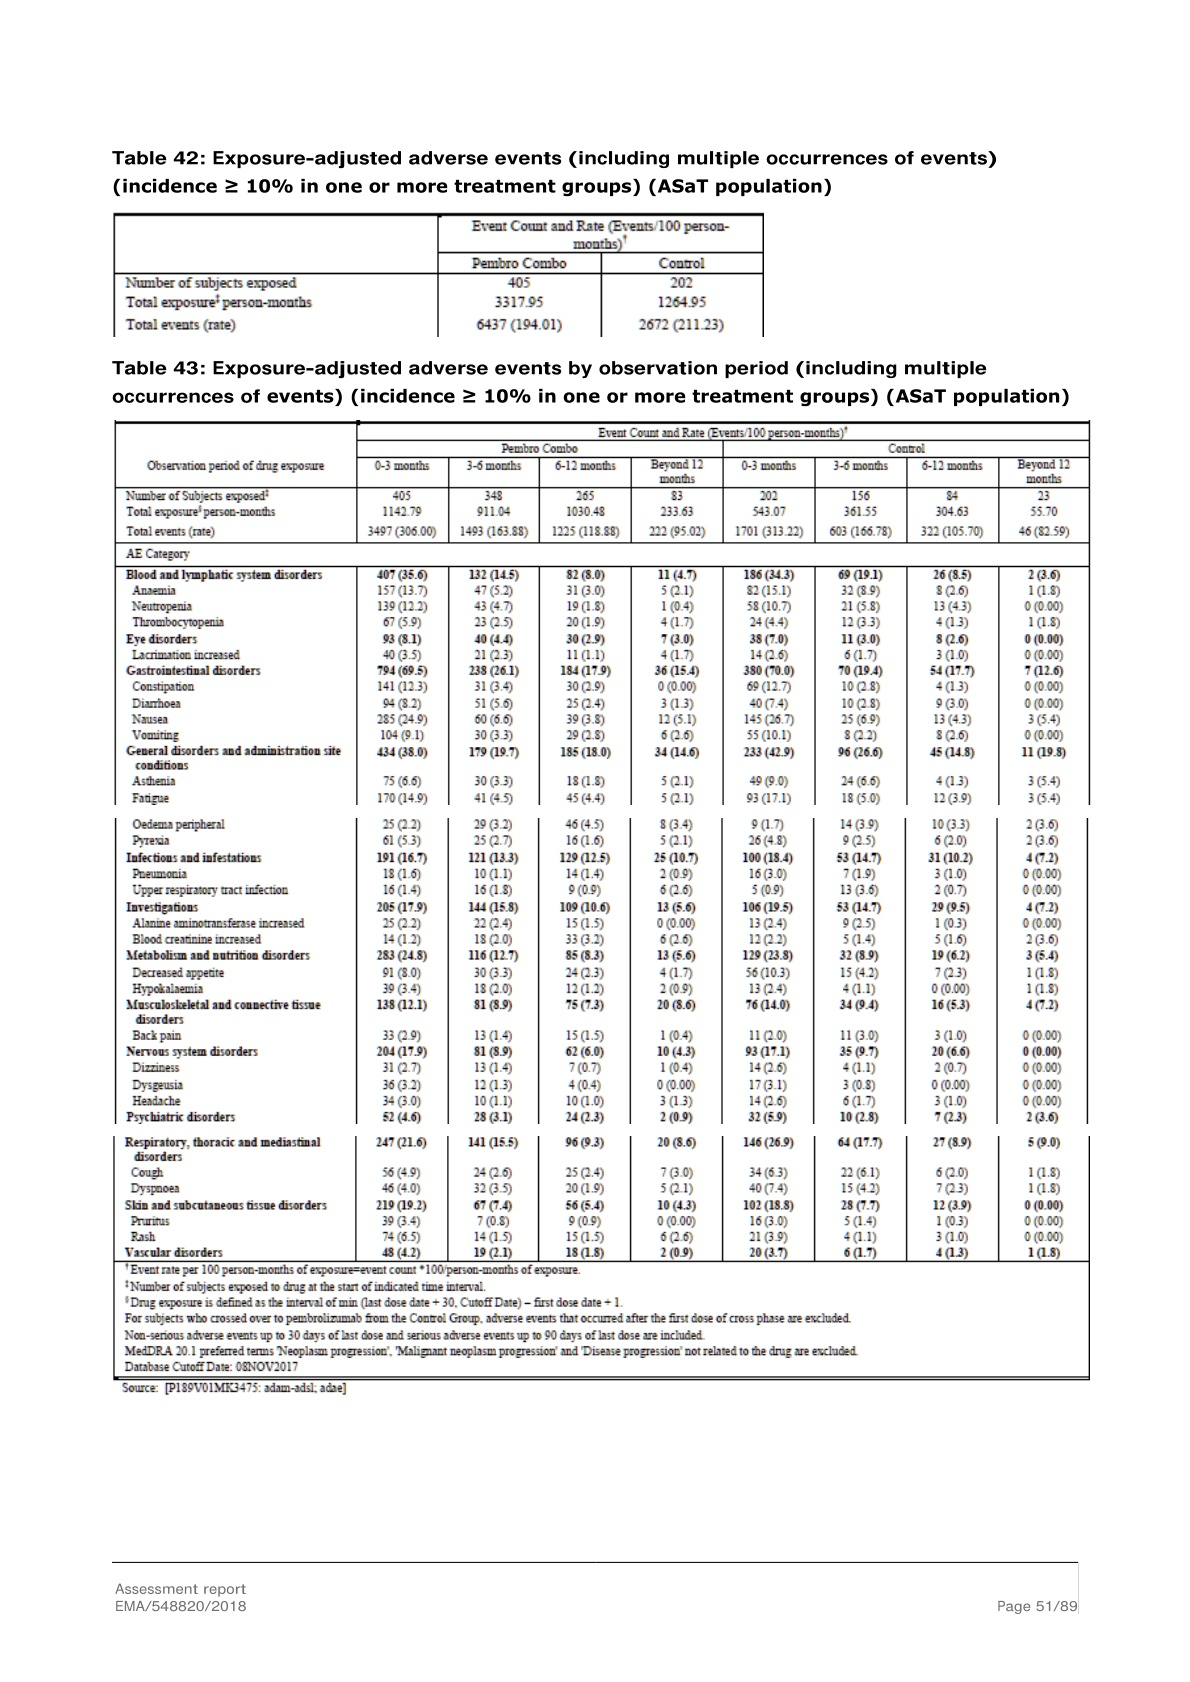merged_cells: (113, 419, 1092, 1382)
partial_lined_merged_cells: (112, 211, 765, 339)
